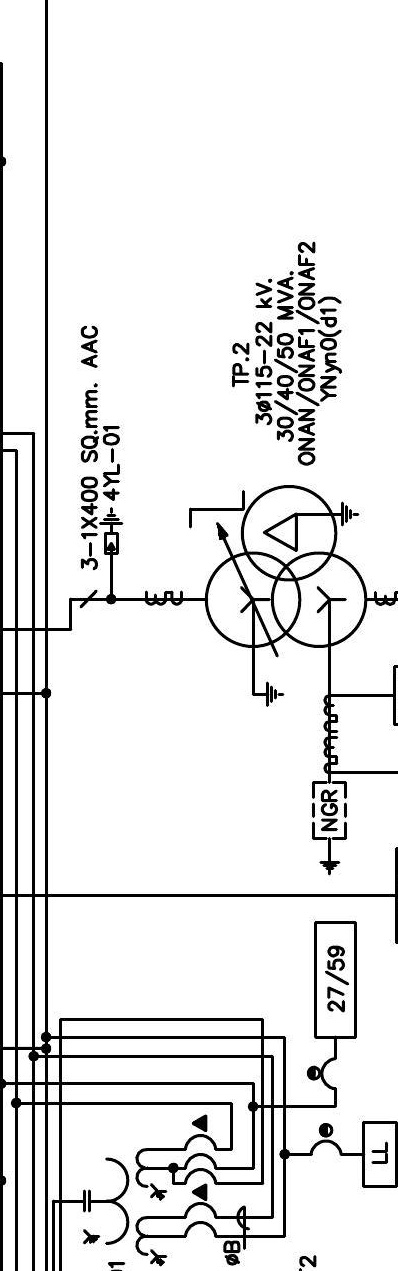11522_tx_ynyn0d1: (204, 484, 368, 651)
115_cvt_3p: (83, 1147, 168, 1267)
115_la: (98, 506, 124, 555)
NGR_future: (311, 781, 348, 876)
